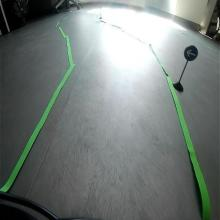left: (184, 45, 198, 62)
